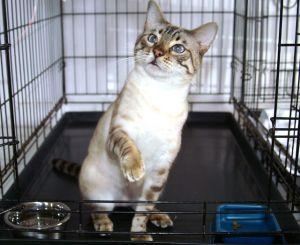bengal: (128, 1, 225, 89)
